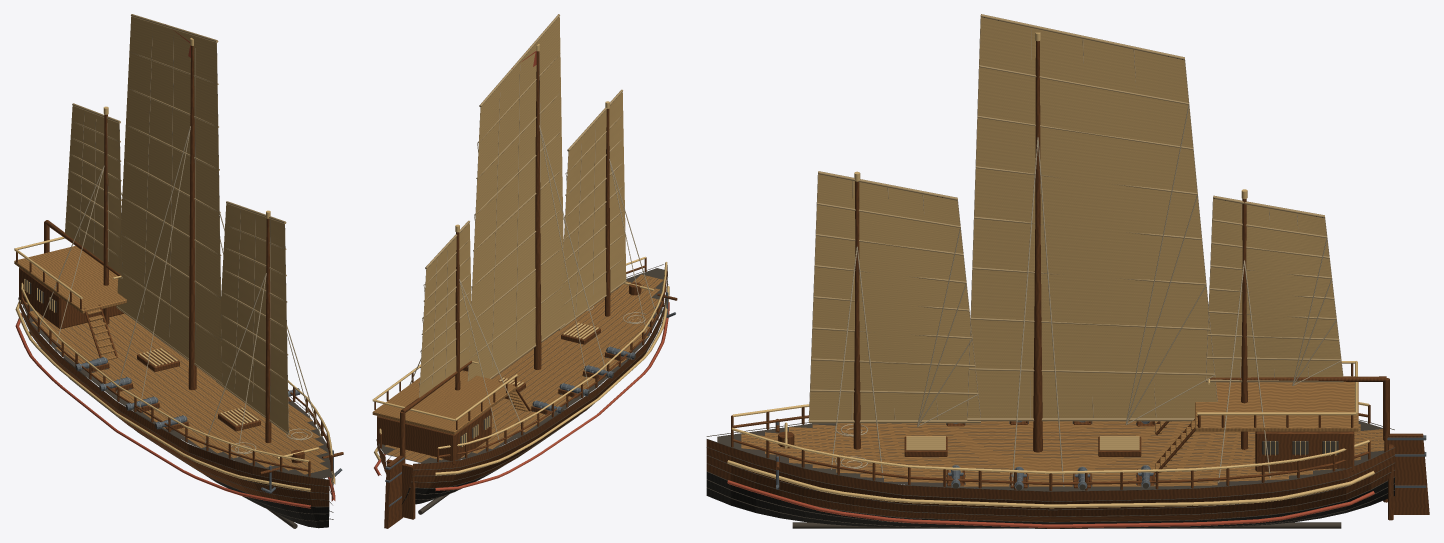
Rendered from fuchuan-lod1.glb.
3 views of the same model, side by side, from view 1: azimuth 30°, elevation 25°; view 2: azimuth 150°, elevation 25°; view 3: azimuth 270°, elevation 25° (orthographic). The views are drawn at different scales.
Visible parts, largest first — view 1: sail_1, deck, sail_0, hull, sail_2, deck_fittings, bulwark_rails, mast_timber_1, sterncastle, mast_timber_0, rigging_1, rigging_0 (+4 smaller); view 2: sail_1, deck, sail_0, hull, sail_2, sterncastle, deck_fittings, bulwark_rails, mast_timber_1, rudder_blade, mast_timber_0, rigging_1 (+4 smaller); view 3: sail_1, sail_0, hull, deck, sail_2, bulwark_rails, deck_fittings, sterncastle, mast_timber_1, rudder_blade, mast_timber_0, rigging_1 (+1 smaller).
Part boxes in pixels (x1,y1,x2,y2): sail_1: [116, 14, 222, 384]; deck: [14, 246, 331, 478]; sail_0: [216, 201, 289, 435]; hull: [15, 296, 335, 528]; sail_2: [65, 103, 122, 278]; deck_fittings: [14, 236, 343, 493]; bulwark_rails: [21, 282, 332, 476]; mast_timber_1: [188, 45, 196, 390]; sterncastle: [19, 267, 123, 328]; mast_timber_0: [265, 218, 271, 443]; rigging_1: [116, 126, 224, 410]; rigging_0: [204, 273, 321, 457]; sail_1: [467, 14, 565, 381]; deck: [372, 268, 664, 463]; sail_0: [558, 89, 626, 330]; hull: [374, 264, 669, 519]; sail_2: [418, 220, 472, 397]; sterncastle: [377, 408, 491, 464]; deck_fittings: [372, 282, 677, 446]; bulwark_rails: [379, 256, 667, 462]; mast_timber_1: [534, 51, 541, 369]; rudder_blade: [384, 455, 403, 528]; mast_timber_0: [605, 109, 610, 316]; rigging_1: [539, 125, 606, 389]; sail_1: [967, 14, 1217, 424]; sail_0: [808, 171, 980, 426]; hull: [706, 419, 1395, 528]; deck: [717, 376, 1384, 490]; sail_2: [1205, 195, 1343, 385]; bulwark_rails: [731, 402, 1370, 490]; deck_fittings: [775, 361, 1357, 489]; sterncastle: [1255, 431, 1354, 471]; mast_timber_1: [1033, 41, 1042, 452]; rudder_blade: [1384, 433, 1429, 514]; mast_timber_0: [853, 181, 860, 449]; rigging_1: [1011, 137, 1064, 486].
Size of the model in its own units: 9.53 by 26.38 by 33.61.
Materials: 12 (4 with a texture image).
